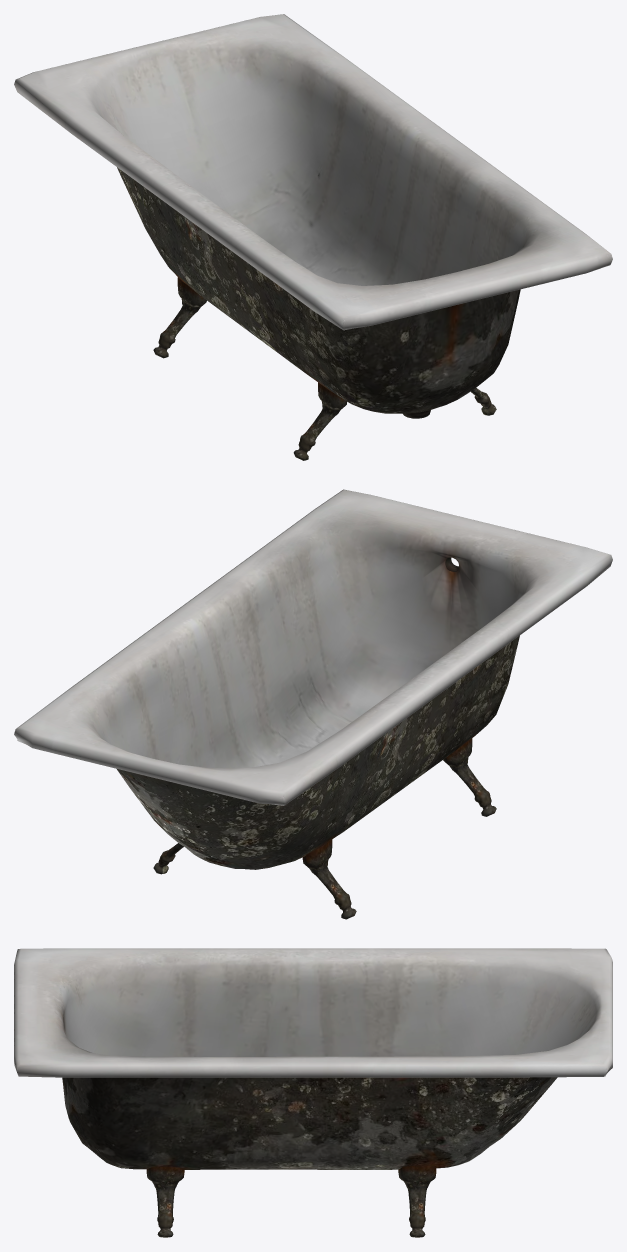
The model's file is bathtub.glb.
3 views of the same model, one above another, from view 1: azimuth 30°, elevation 25°; view 2: azimuth 150°, elevation 25°; view 3: azimuth 270°, elevation 25° (orthographic). The views are drawn at different scales.
Parts seen in each view (by area): view 1: Bathtube.001; view 2: Bathtube.001; view 3: Bathtube.001.
Boxes of the visible parts, left/top/right/bottom form: Bathtube.001: left=14, top=14, right=612, bottom=460; Bathtube.001: left=14, top=489, right=612, bottom=919; Bathtube.001: left=14, top=948, right=612, bottom=1237.
Bounding box in the file's own units: 0.9613 × 0.7162 × 2.03.
Materials: 1 (1 with a texture image).
